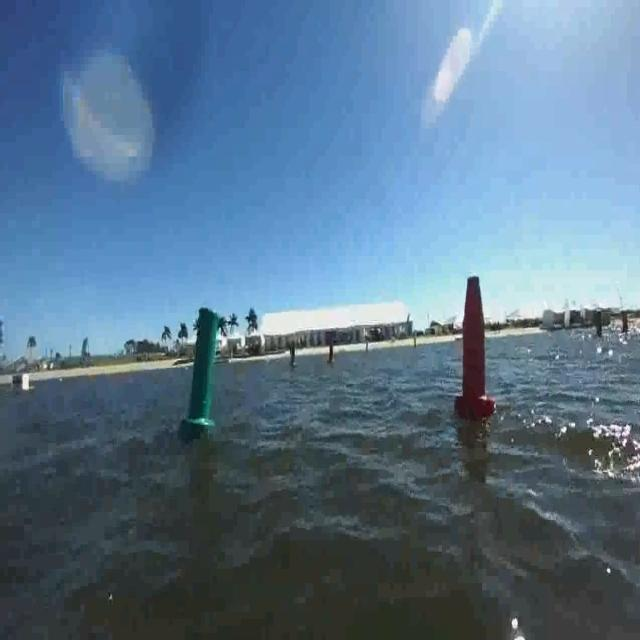green-column-buoy: (187, 305, 222, 432)
red-column-buoy: (456, 269, 497, 419)
